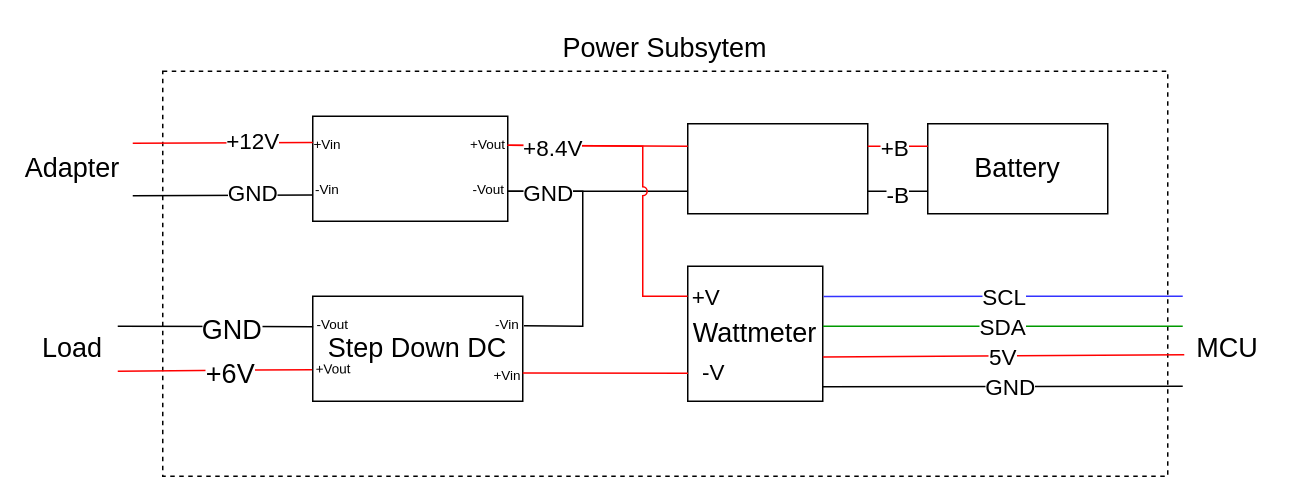
This 1299x503 diagram has some shape labels left out. The shapes that lost their labels are listed below. From the top down, each one's box as (x1, y1, x2, y2) in pixels, then its label:
(311, 115, 508, 221): Charging Module
(686, 122, 868, 214): BMS
